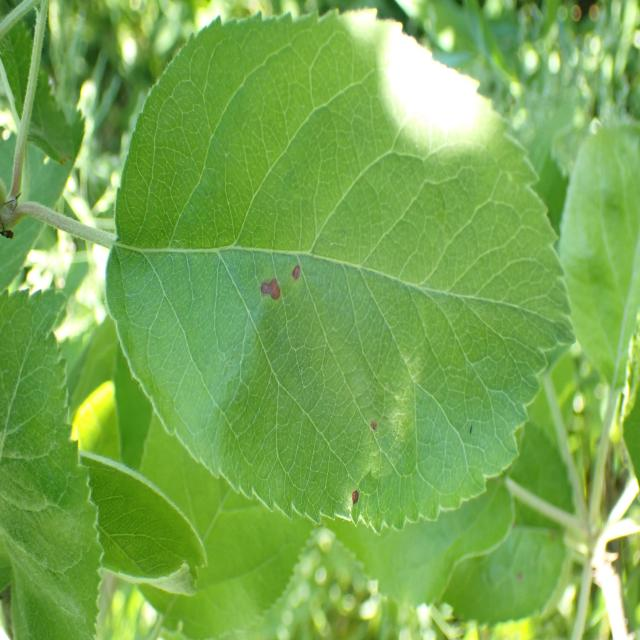Black Rot: (248, 255, 287, 317), (342, 483, 390, 531), (278, 252, 316, 303), (364, 415, 392, 440)
